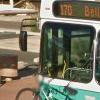Bus: (33, 1, 100, 98)
